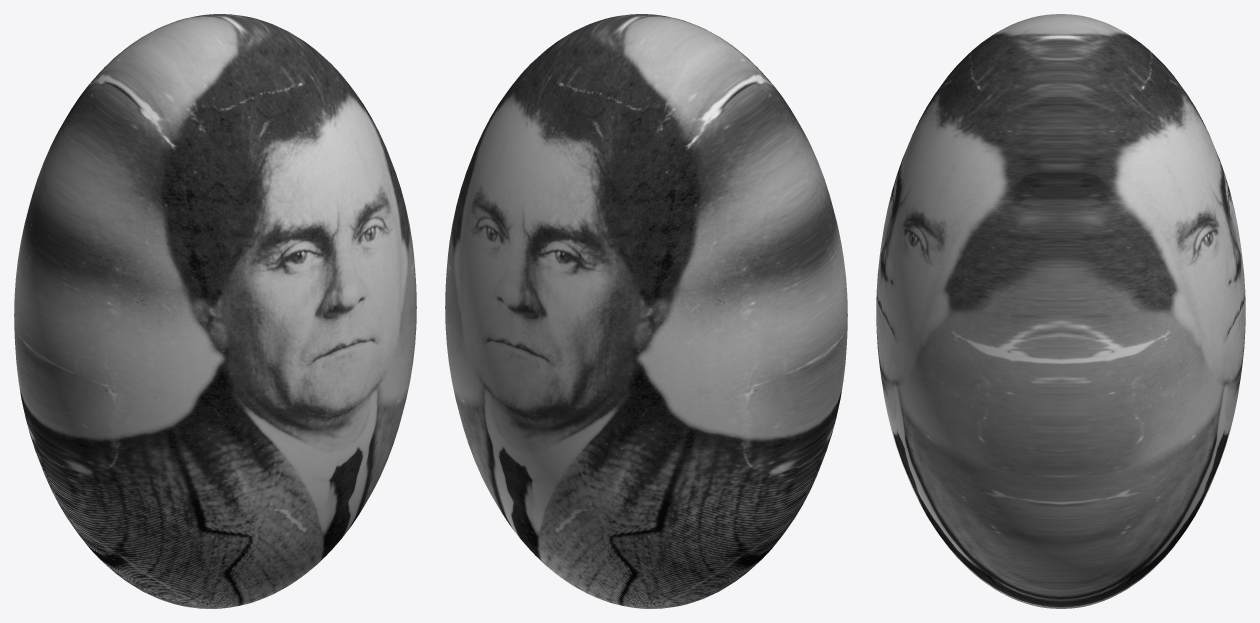
3 views of the same model, side by side, from view 1: azimuth 30°, elevation 25°; view 2: azimuth 150°, elevation 25°; view 3: azimuth 270°, elevation 25° (orthographic).
Visible parts, largest first — view 1: head; view 2: head; view 3: head.
Part boxes in pixels (<box>): head: <box>14,14,416,608</box>; head: <box>445,14,847,608</box>; head: <box>876,14,1245,608</box>.
Bounding box in the file's own units: 1.31 × 2 × 1.18.
Materials: 1 (1 with a texture image).
